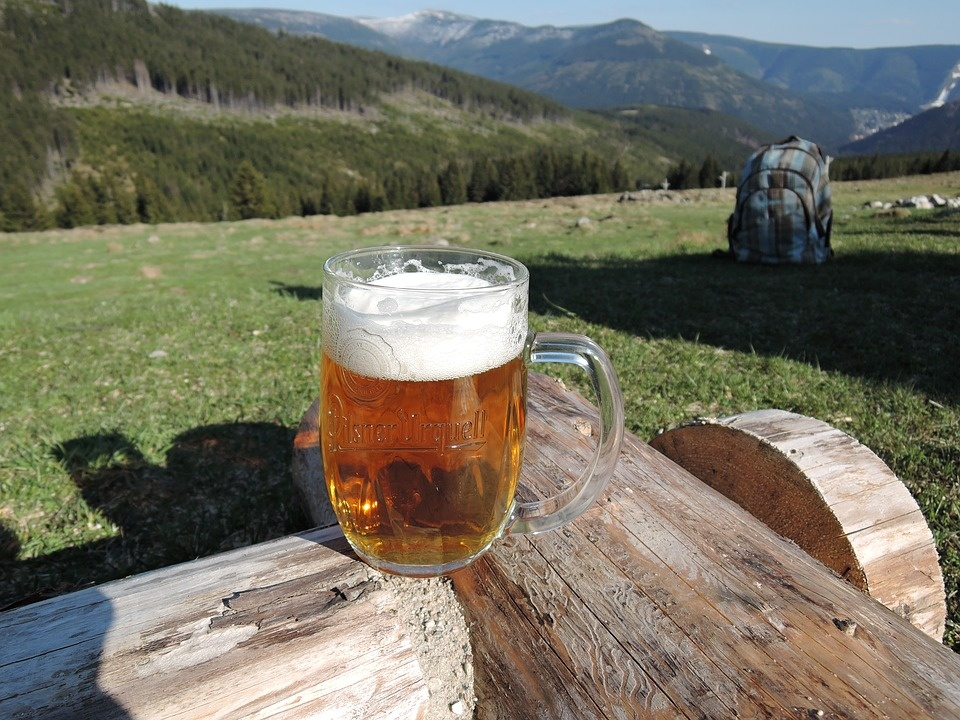glassBeer: (310, 247, 544, 590)
